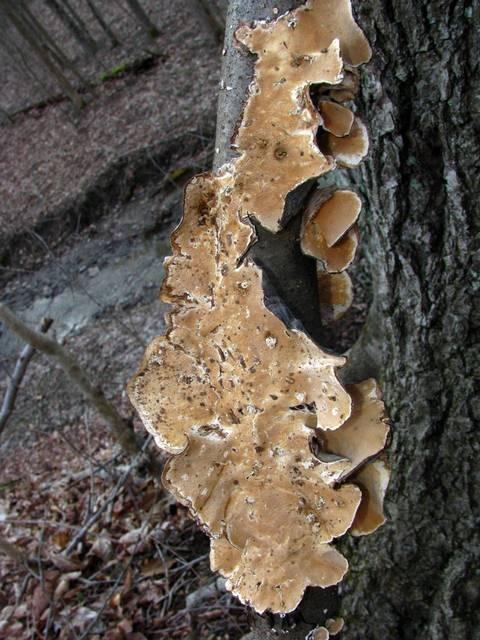poisonous_mushroom: (124, 0, 394, 617)
